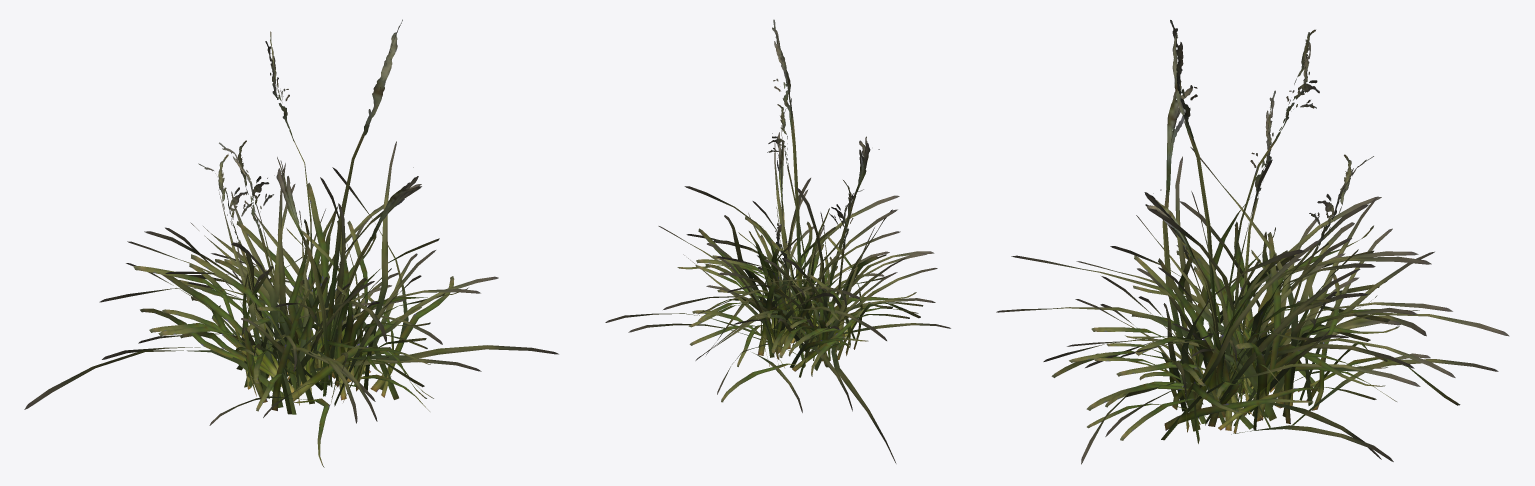
The model's file is grass-clump-lod1.glb.
The picture shows the model from 3 angles, left to right: view 1: azimuth 30°, elevation 25°; view 2: azimuth 150°, elevation 25°; view 3: azimuth 270°, elevation 25°; orthographic projection. The views are drawn at different scales.
Parts seen in each view (by area): view 1: grass_medium_01_mid_a_LOD0; view 2: grass_medium_01_mid_a_LOD0; view 3: grass_medium_01_mid_a_LOD0.
Part boxes in pixels (left/top/right/bottom): grass_medium_01_mid_a_LOD0: left=24, top=19, right=558, bottom=467; grass_medium_01_mid_a_LOD0: left=605, top=19, right=950, bottom=463; grass_medium_01_mid_a_LOD0: left=996, top=20, right=1509, bottom=464.
Size of the model in its own units: 0.2156 by 0.2178 by 0.2214.
Materials: 1 (1 with a texture image).
